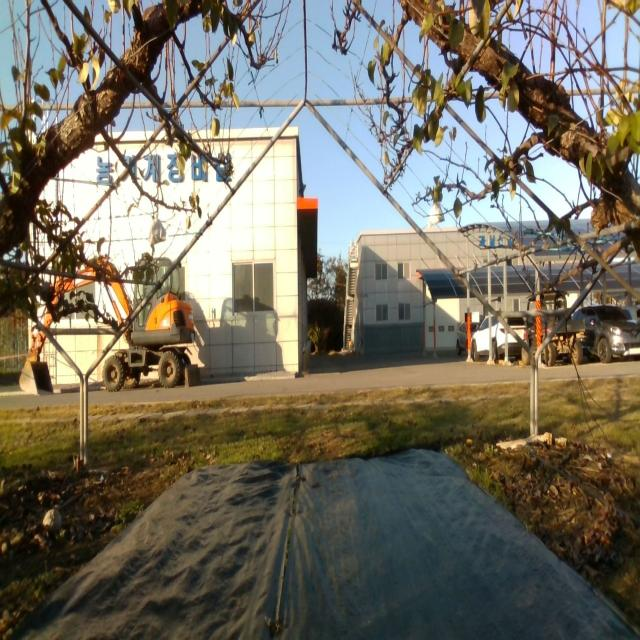pearbags: (148, 218, 168, 251), (428, 203, 446, 228)
